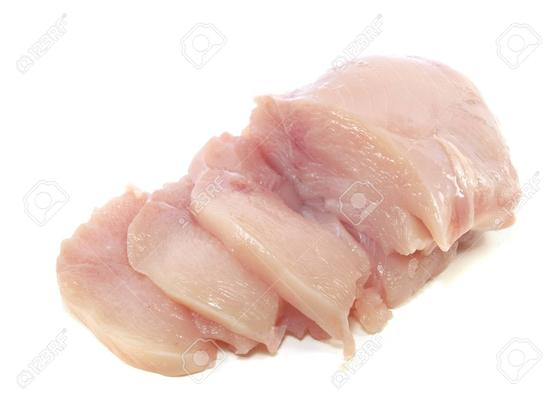chicken_fillet: (52, 59, 529, 376)
